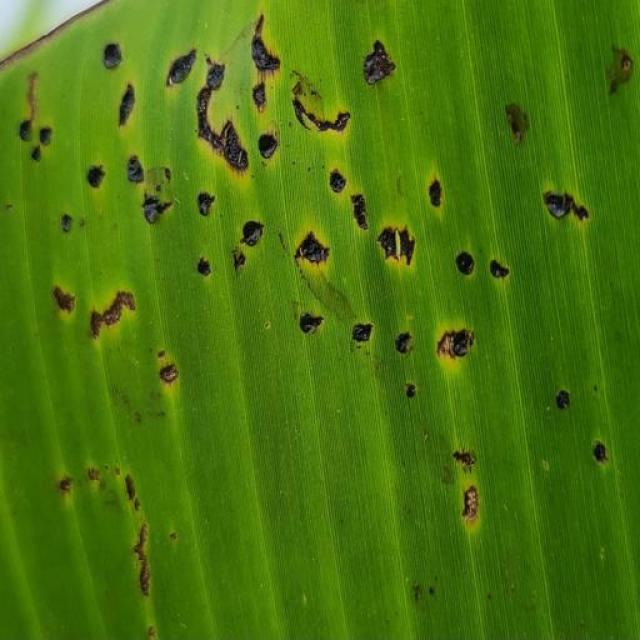Black_rot: (0, 0, 640, 404), (28, 453, 195, 640), (431, 418, 503, 554), (570, 417, 632, 502)
